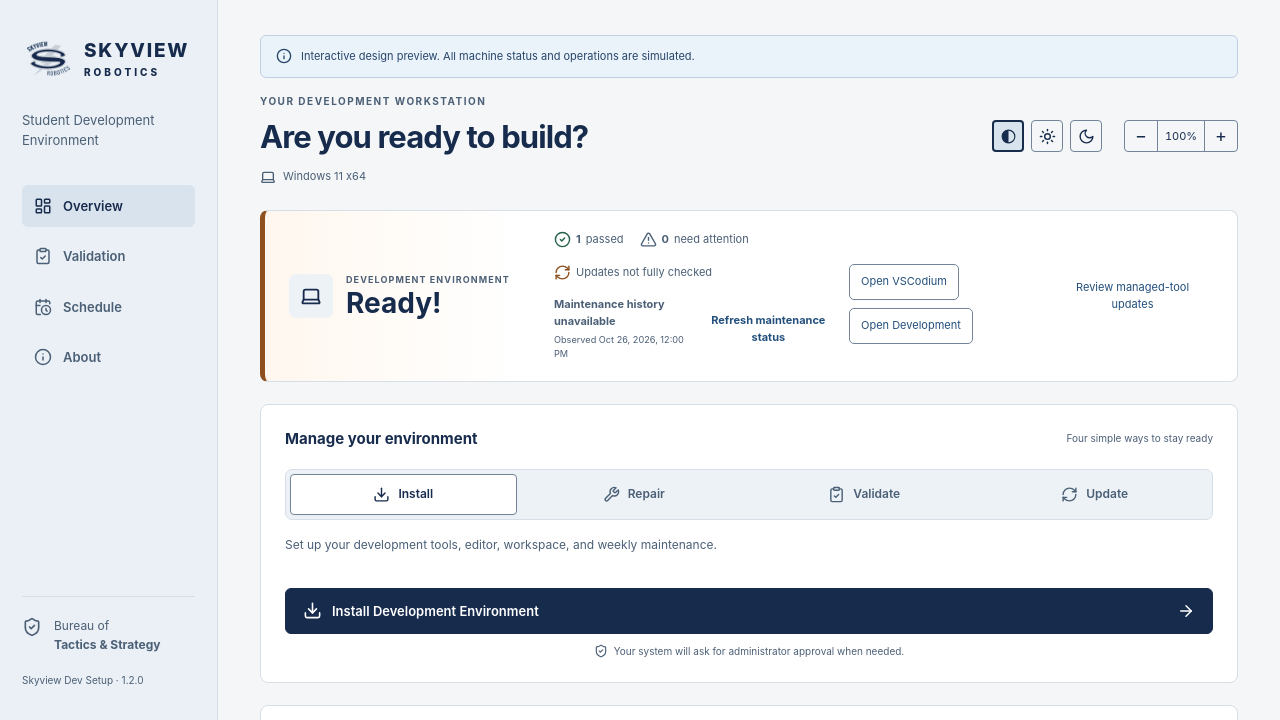
Test: puts streaming installation output beside progress without expanding details
Expected: the heading "Ready!" is shown, [346,286,442,320]
Click the button "Install Development Environment" at (435, 611), box [285,588,1213,634]
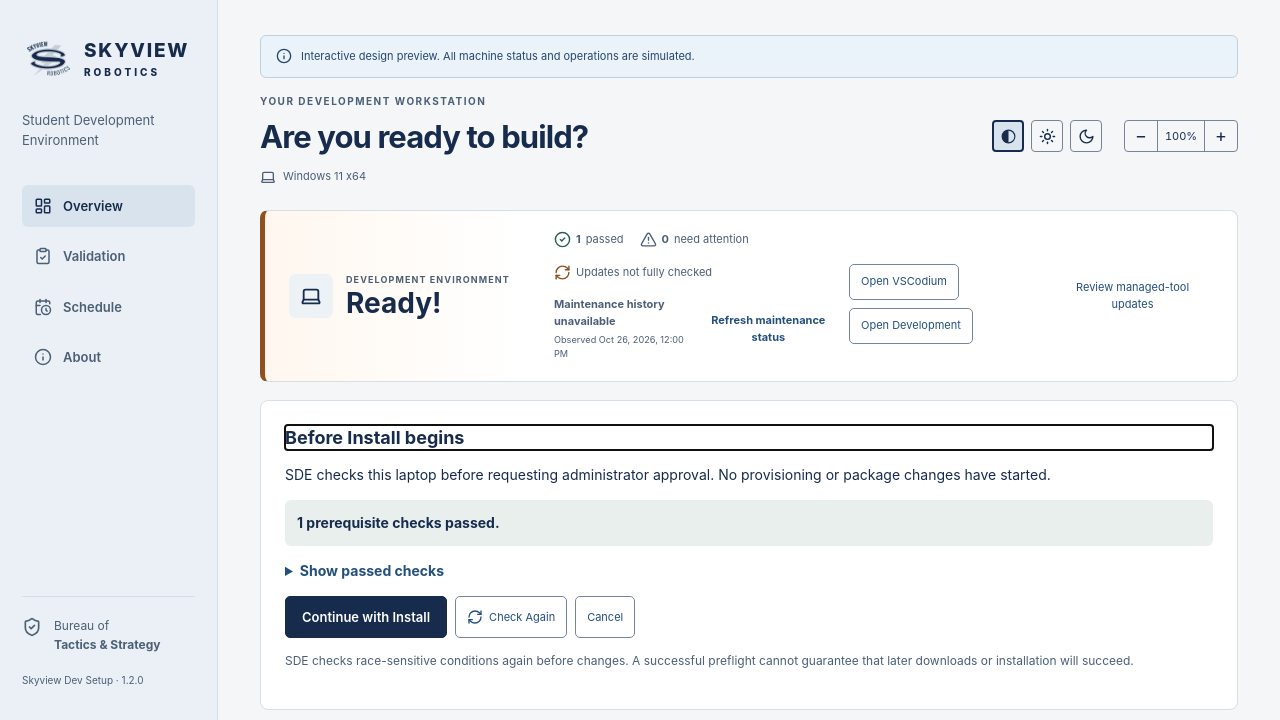
Expected: the heading "Before Install begins" is shown, [285,427,464,448]
Expected: the button "Continue with Install" is enabled
Click the button "Continue with Install" at (366, 617), box [285,596,447,638]
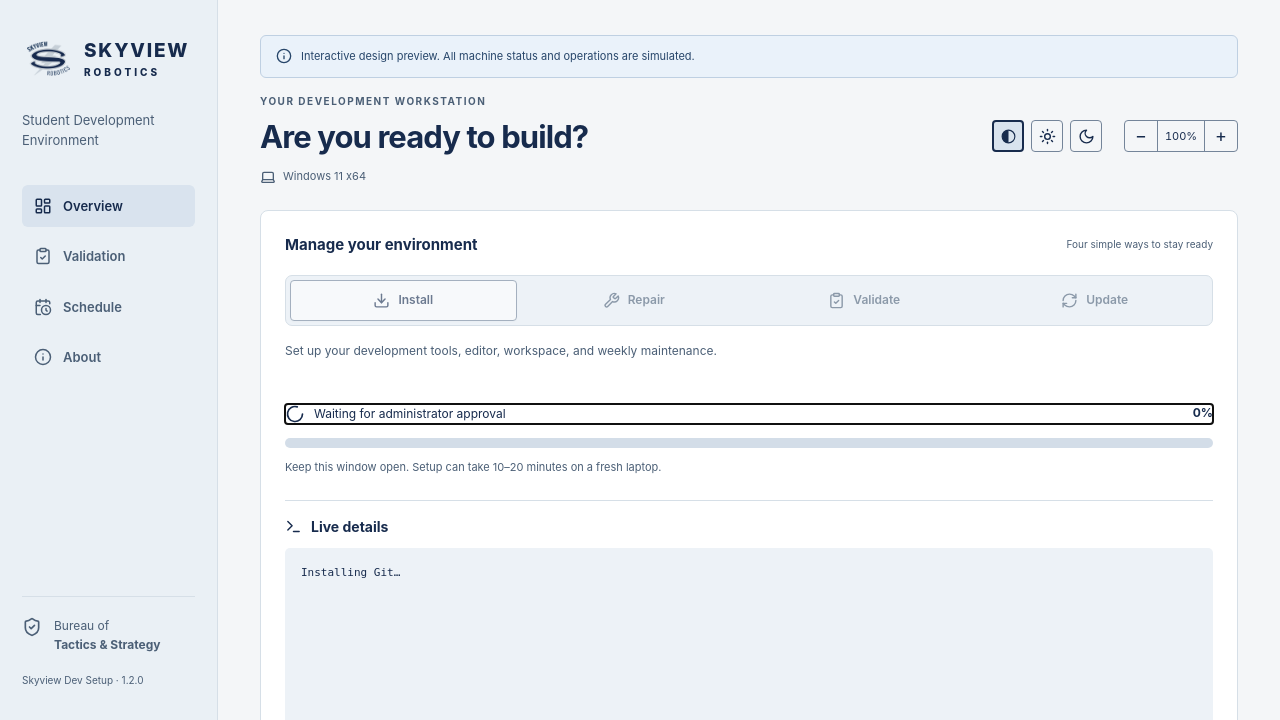
Expected: the text named "Provisioning log" reads "Installing Git…", [301,566,400,580]
Expected: the heading "Live details" is shown, [285,518,388,535]
